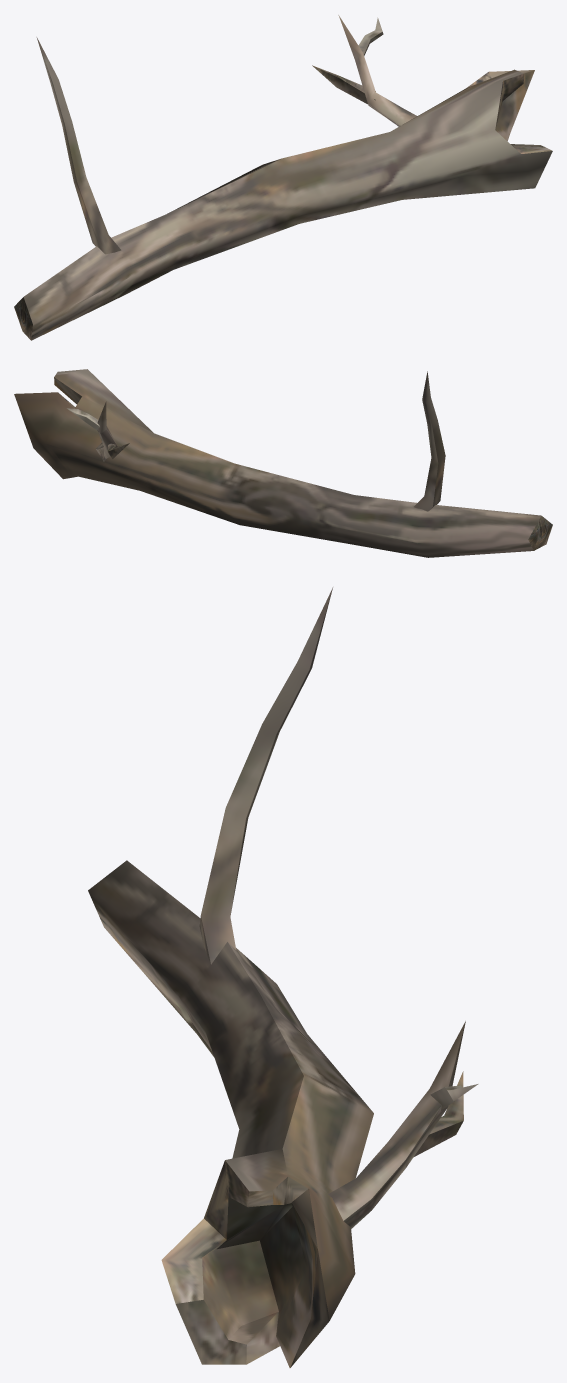
The model's file is kushugan01.FBX.
3 renders of one model, top to bottom at view 1: azimuth 30°, elevation 25°; view 2: azimuth 150°, elevation 25°; view 3: azimuth 270°, elevation 25°, orthographic. The views are drawn at different scales.
Parts seen in each view (by area): view 1: kushugan01; view 2: kushugan01; view 3: kushugan01.
Boxes of the visible parts, left/top/right/bottom form: kushugan01: left=14, top=15, right=552, bottom=340; kushugan01: left=14, top=369, right=552, bottom=557; kushugan01: left=88, top=587, right=478, bottom=1367.
Bounding box in the file's own units: 334 × 138 × 117.
